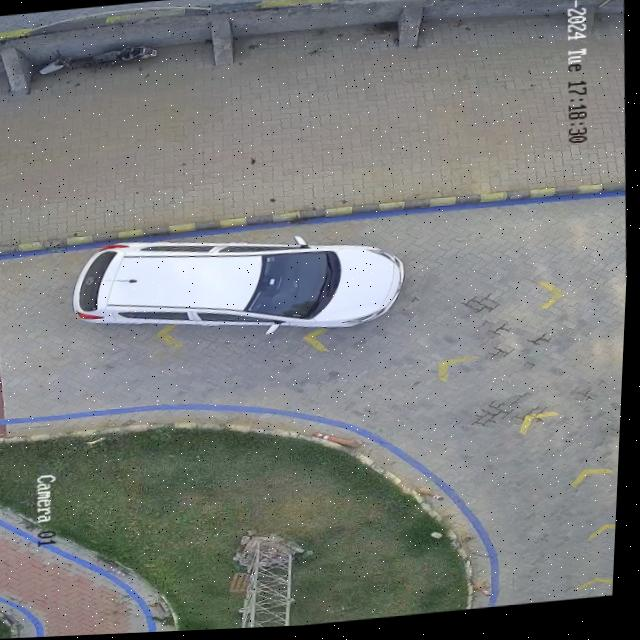car: (75, 241, 404, 336)
